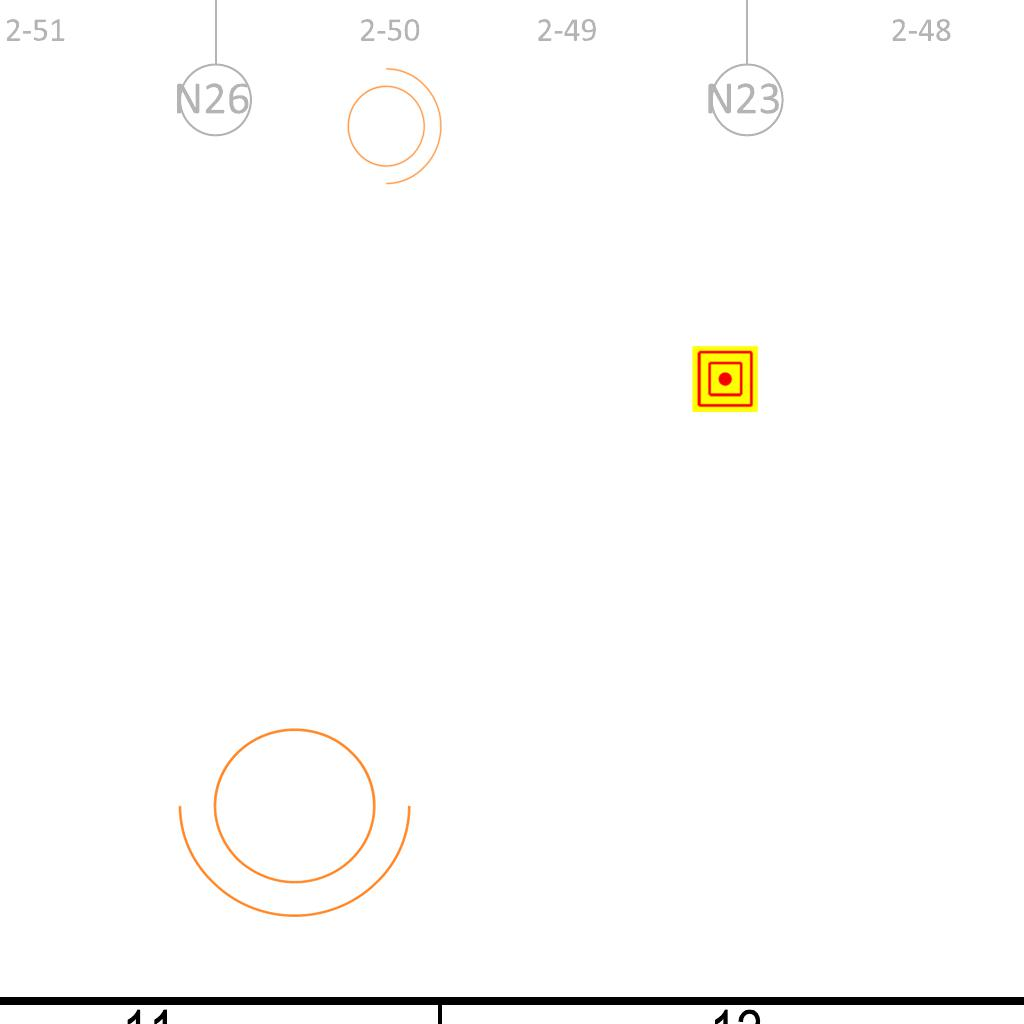NAM-Nichtautomatischer_Melder: (692, 346, 758, 412)
Scheinwerfer_fuer_Alarmbeleuchtung: (169, 703, 433, 928), (335, 57, 447, 189)
